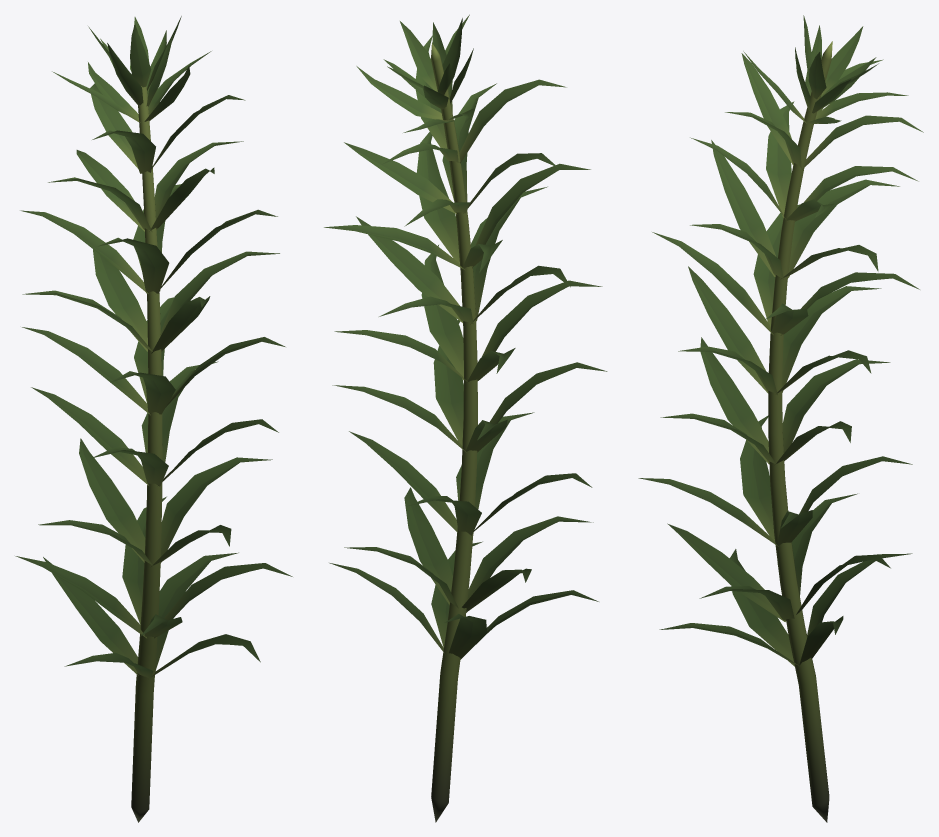
The picture shows the model from 3 angles, left to right: view 1: azimuth 30°, elevation 25°; view 2: azimuth 150°, elevation 25°; view 3: azimuth 270°, elevation 25°; orthographic projection.
Parts seen in each view (by area): view 1: alt445; view 2: alt445; view 3: alt445.
Boxes of the visible parts, x1,y1,x2,y2 form: alt445: [15, 16, 292, 822]; alt445: [324, 14, 607, 822]; alt445: [638, 15, 923, 822].
Bounding box in the file's own units: 0.157 × 0.5 × 0.1626.
